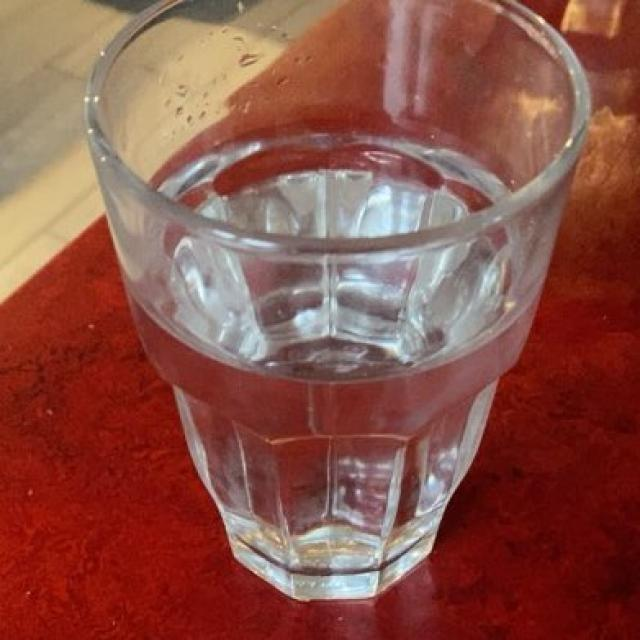water: (121, 129, 525, 575)
